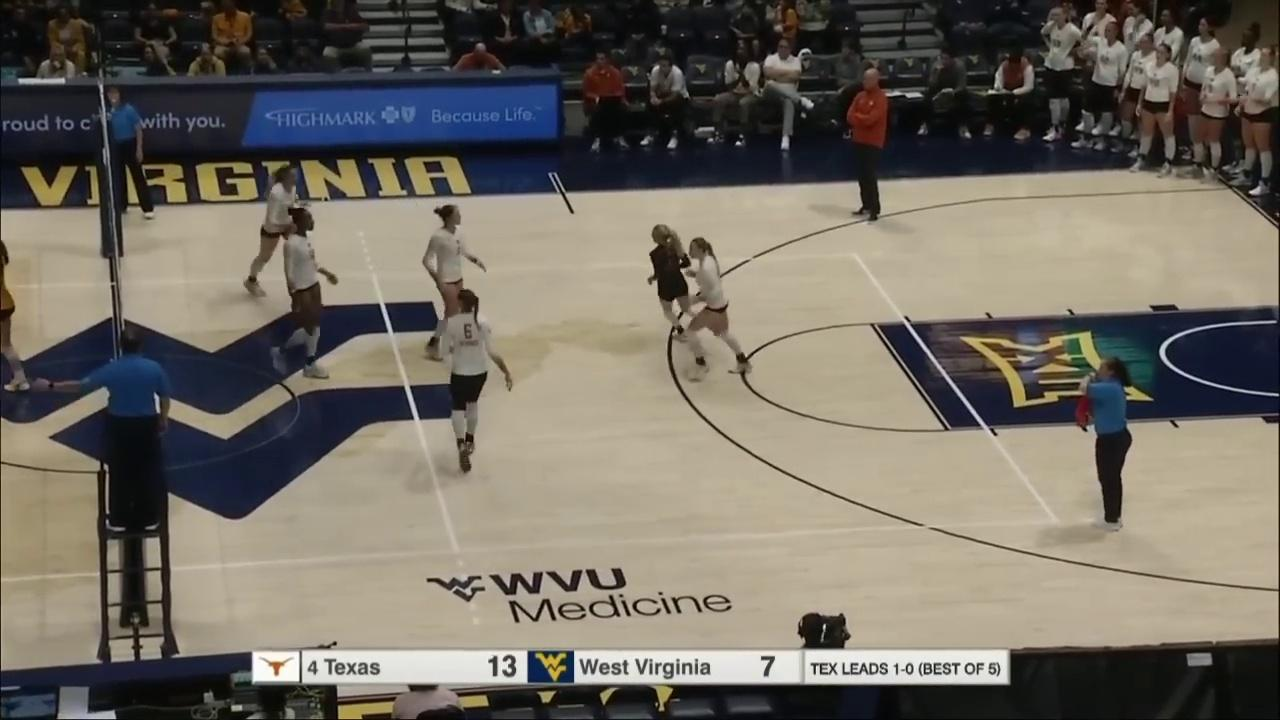player: (439, 289, 516, 473), (271, 207, 338, 379), (422, 204, 488, 360), (683, 236, 753, 378), (244, 166, 315, 297), (649, 223, 711, 344), (0, 229, 33, 391)
refree: (49, 327, 173, 531), (1079, 355, 1133, 528), (101, 87, 155, 218)
